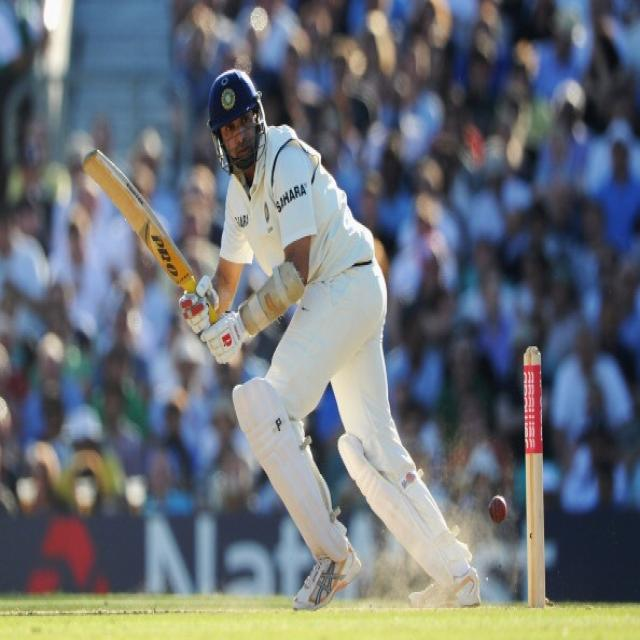ball: (489, 493, 506, 526)
stump: (522, 343, 548, 610)
